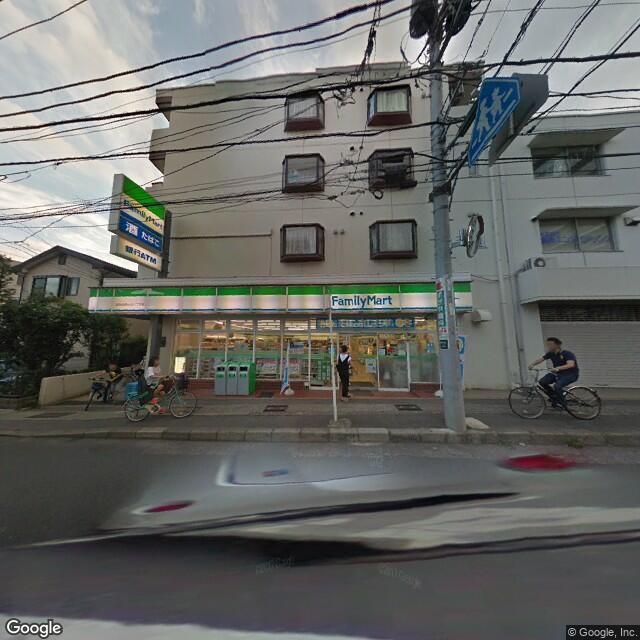family_mart: (89, 277, 473, 314), (118, 173, 165, 247), (330, 288, 399, 311)
